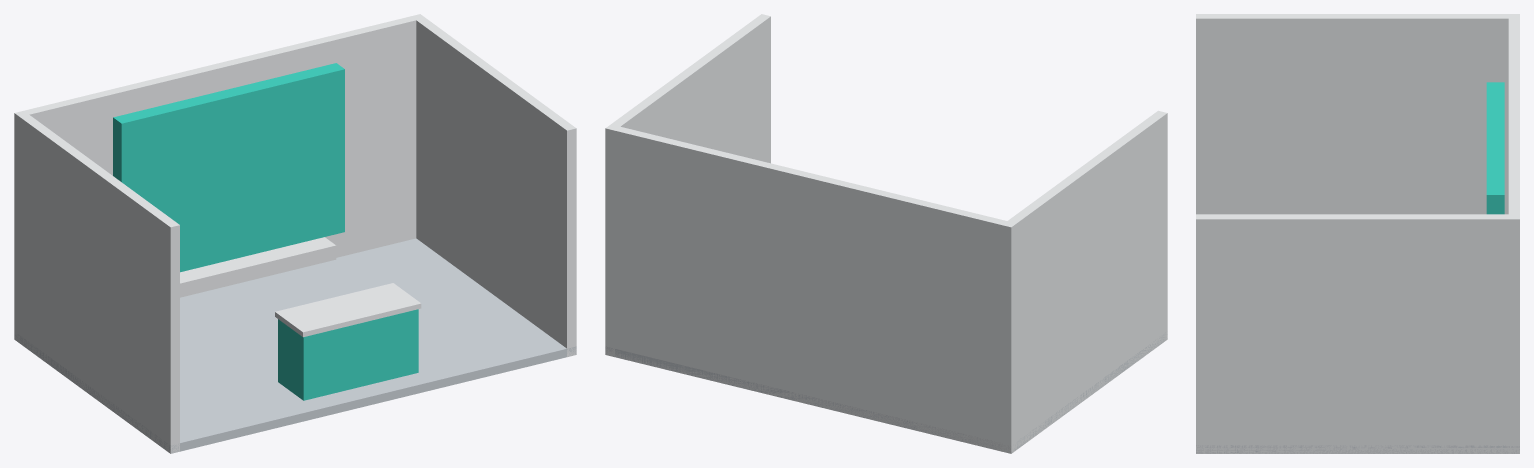
3 renders of one model, left to right at view 1: azimuth 30°, elevation 25°; view 2: azimuth 150°, elevation 25°; view 3: azimuth 270°, elevation 25°, orthographic. The views are drawn at different scales.
Parts seen in each view (by area): view 1: Exhibition Booth Concept; view 2: Exhibition Booth Concept; view 3: Exhibition Booth Concept.
Boxes of the visible parts, left/top/right/bottom form: Exhibition Booth Concept: left=14, top=14, right=576, bottom=453; Exhibition Booth Concept: left=605, top=14, right=1167, bottom=453; Exhibition Booth Concept: left=1196, top=14, right=1519, bottom=453.
Size of the model in its own units: 6 by 3.2 by 4.
